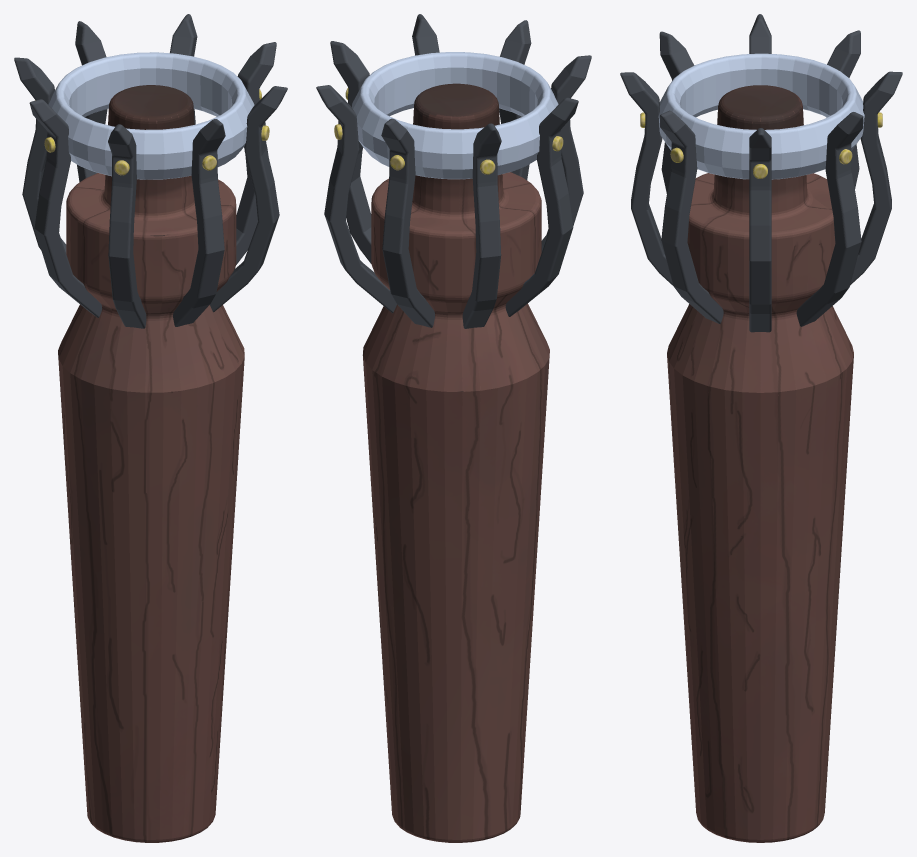
The model's file is just_torch.fbx.
3 renders of one model, left to right at view 1: azimuth 30°, elevation 25°; view 2: azimuth 150°, elevation 25°; view 3: azimuth 270°, elevation 25°, orthographic.
Parts seen in each view (by area): view 1: Torch, Metal; view 2: Torch, Metal; view 3: Torch, Metal.
Boxes of the visible parts, bbox=[...] form: Torch: bbox=[58, 85, 244, 842]; Metal: bbox=[14, 14, 287, 328]; Torch: bbox=[362, 83, 549, 842]; Metal: bbox=[316, 14, 591, 328]; Torch: bbox=[667, 85, 853, 842]; Metal: bbox=[620, 14, 902, 332].
Bounding box in the file's own units: 28.52 × 82.39 × 28.32.
Materials: 2 (2 with a texture image).
